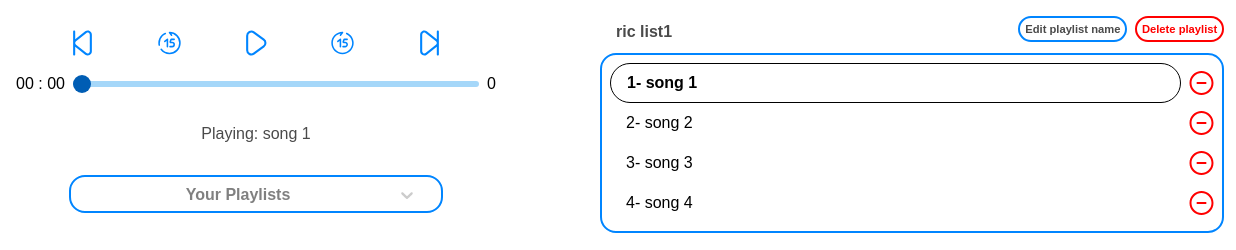
Scenario: Songs list › 5- after forward button is clicked 3 times the song playing has to be song four
The image size is (1236, 250).
Click the icon with test id "forwardButton" at (430, 43), box [417, 27, 442, 59]
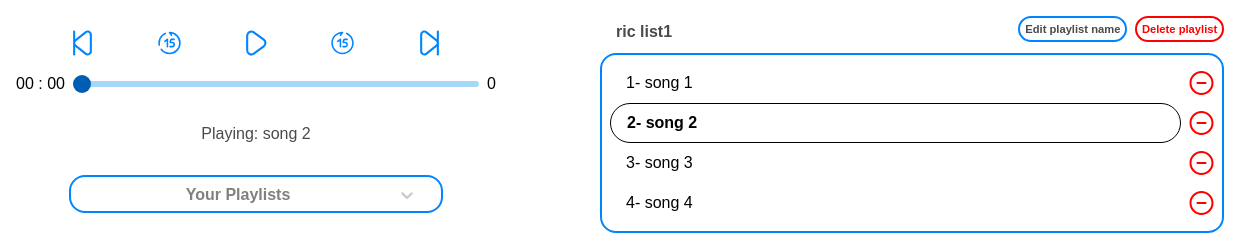
Click the icon with test id "forwardButton" at (430, 43), box [417, 27, 442, 59]
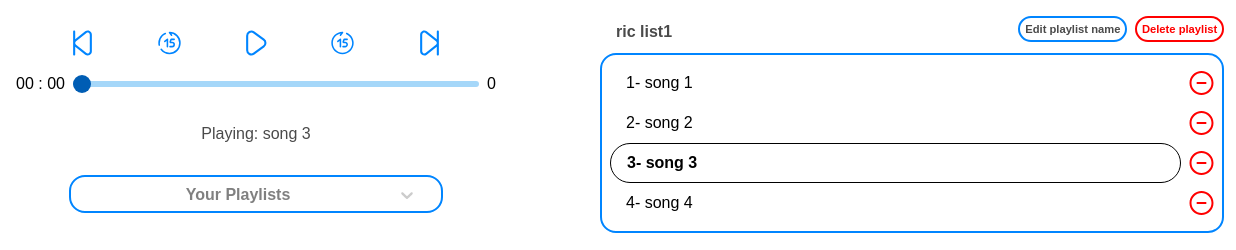
Click the icon with test id "forwardButton" at (430, 43), box [417, 27, 442, 59]
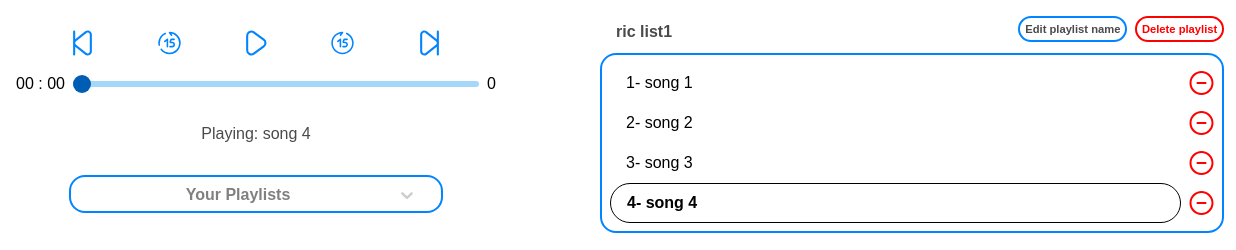
Check: the text "Playing: song 4" is shown, box [201, 125, 311, 143]
